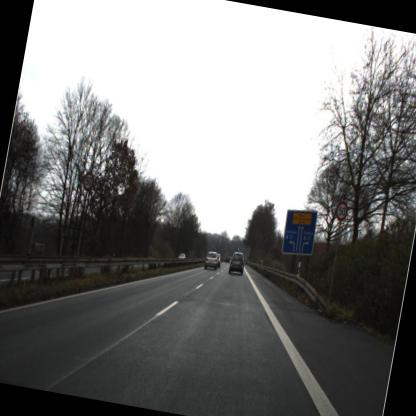prohibitory: (333, 197, 349, 223)
